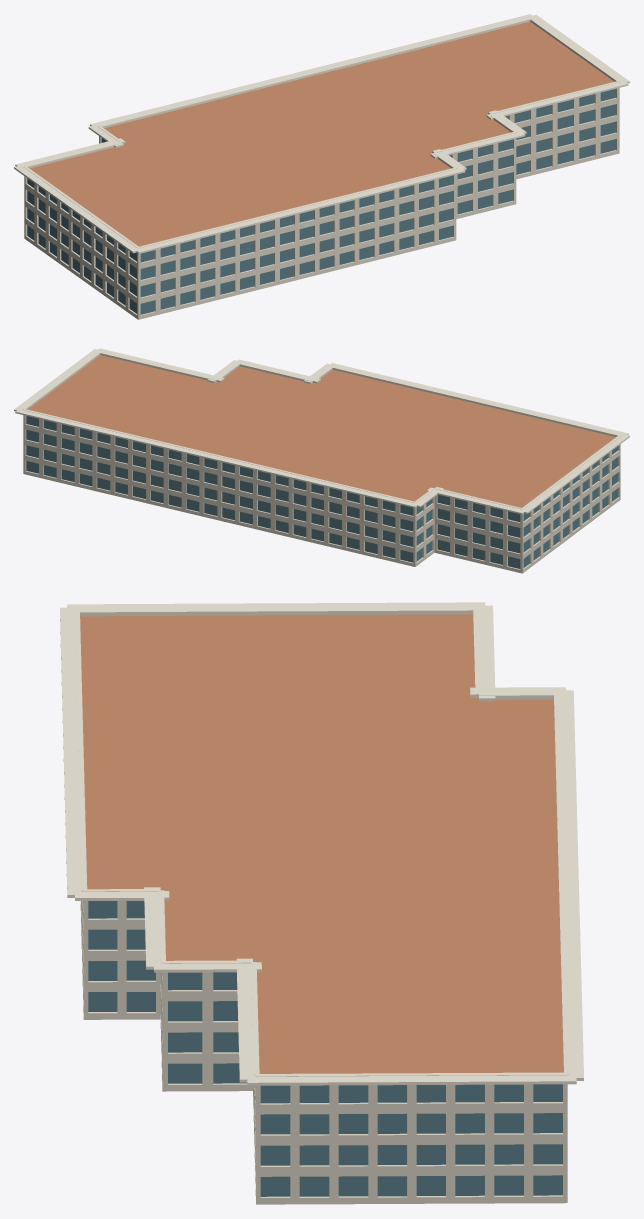
The model's file is lab3.far.glb.
3 views of the same model, one above another, from view 1: azimuth 30°, elevation 25°; view 2: azimuth 150°, elevation 25°; view 3: azimuth 270°, elevation 25° (orthographic). The views are drawn at different scales.
Visible parts, largest first — view 1: roof, wall, glass, trim; view 2: roof, wall, glass, trim; view 3: roof, trim, wall, glass.
Part boxes in pixels (x1,y1,x2,y2): roof: (29,21,614,246); wall: (24,88,619,319); glass: (27,89,616,314); trim: (14,14,629,253); roof: (28,355,615,507); wall: (23,415,620,573); glass: (26,416,618,568); trim: (14,348,629,514); roof: (80,614,563,1073); trim: (60,602,583,1085); wall: (80,901,567,1204); glass: (88,901,562,1196).
Size of the model in its own units: 104 by 13.04 by 47.99.
